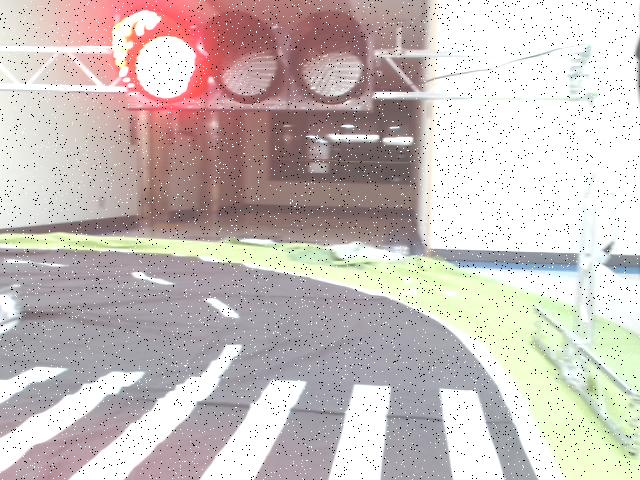crosswalk: (0, 357, 523, 480)
traffic light-red-: (114, 10, 374, 113)
